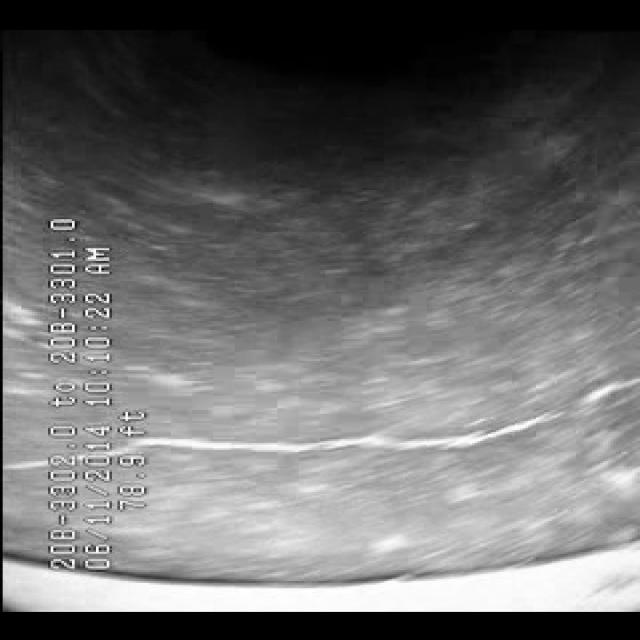Crack: (163, 380, 594, 469)
